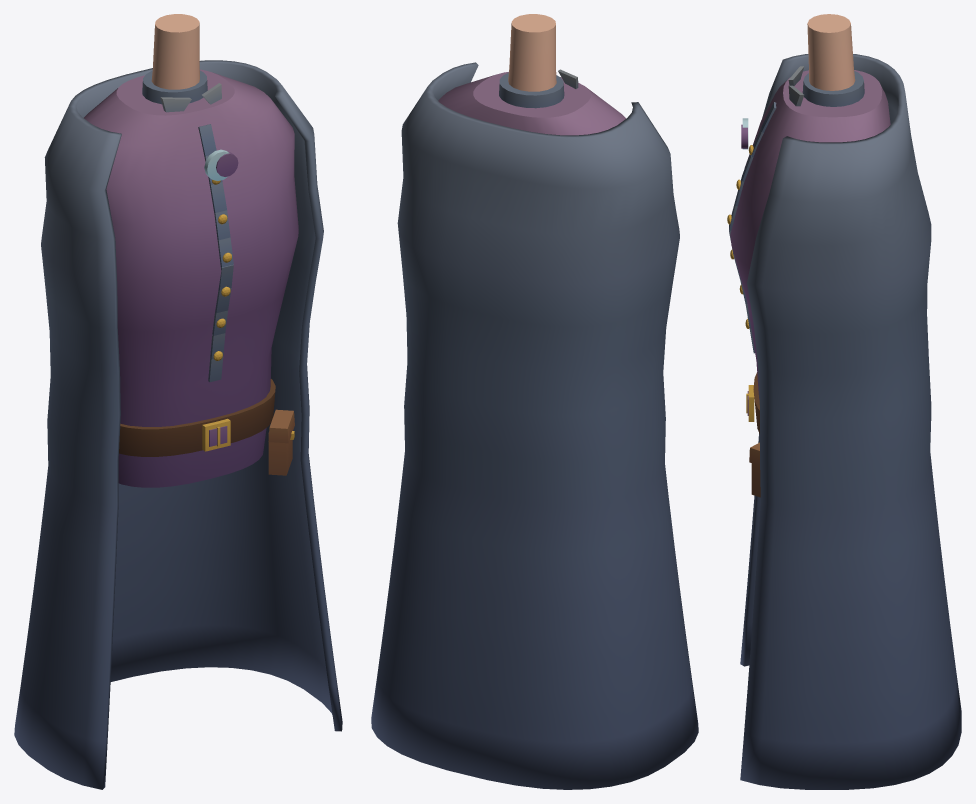
The model's file is merchant_nyra_torso.glb.
3 renders of one model, left to right at view 1: azimuth 30°, elevation 25°; view 2: azimuth 150°, elevation 25°; view 3: azimuth 270°, elevation 25°, orthographic.
Visible parts, largest first — view 1: merchant_nyra_torso; view 2: merchant_nyra_torso; view 3: merchant_nyra_torso.
Boxes of the visible parts, left/top/right/bottom form: merchant_nyra_torso: left=14, top=14, right=342, bottom=789; merchant_nyra_torso: left=371, top=14, right=698, bottom=789; merchant_nyra_torso: left=727, top=14, right=961, bottom=789.
Bounding box in the file's own units: 1.35 × 3.25 × 0.9887.
1 material, 1 textured.
